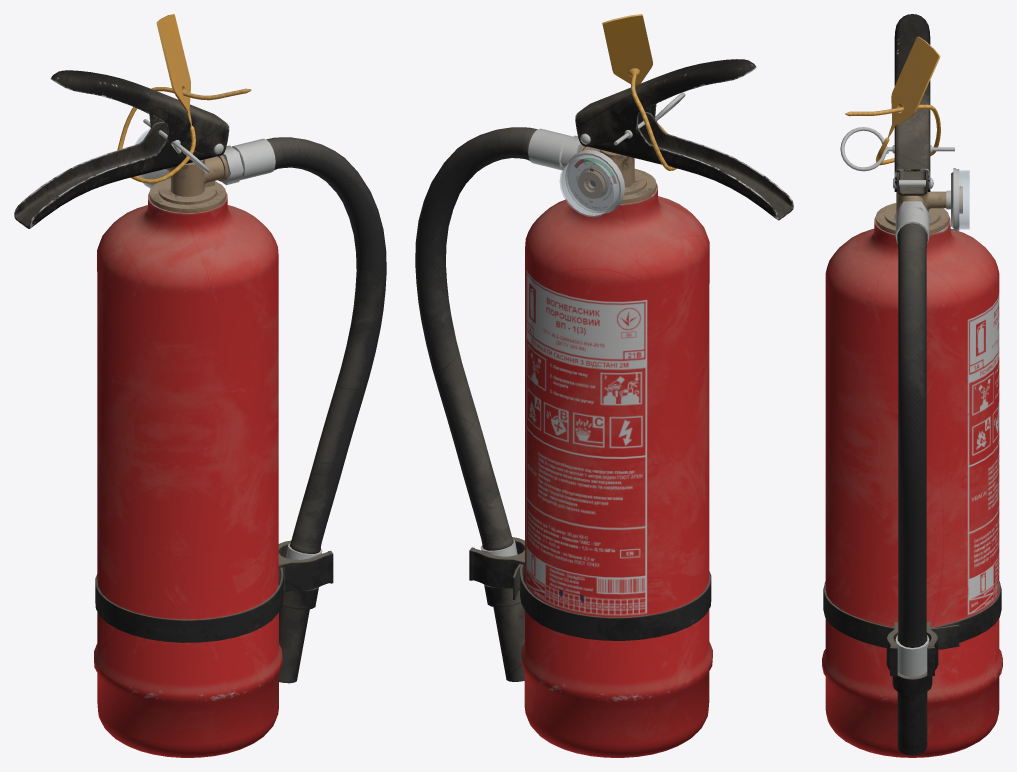
Rendered from fire_extinguisher.glb.
The picture shows the model from 3 angles, left to right: view 1: azimuth 30°, elevation 25°; view 2: azimuth 150°, elevation 25°; view 3: azimuth 270°, elevation 25°; orthographic projection. The views are drawn at different scales.
Parts seen in each view (by area): view 1: Fire_Extinguisher_geo; view 2: Fire_Extinguisher_geo; view 3: Fire_Extinguisher_geo.
Boxes of the visible parts, bbox=[...] form: Fire_Extinguisher_geo: bbox=[14, 14, 386, 757]; Fire_Extinguisher_geo: bbox=[415, 14, 793, 757]; Fire_Extinguisher_geo: bbox=[822, 14, 1002, 757].
Bounding box in the file's own units: 0.221 × 0.4167 × 0.0998.
1 material, 1 textured.
